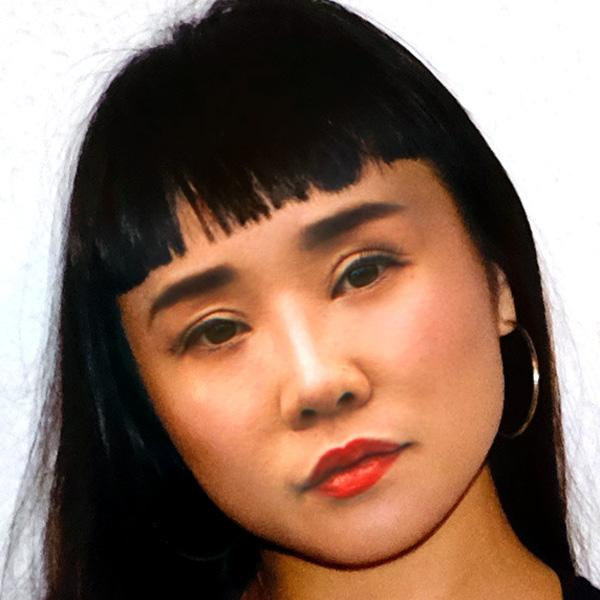Eyes: (316, 233, 415, 313), (161, 295, 265, 371)
